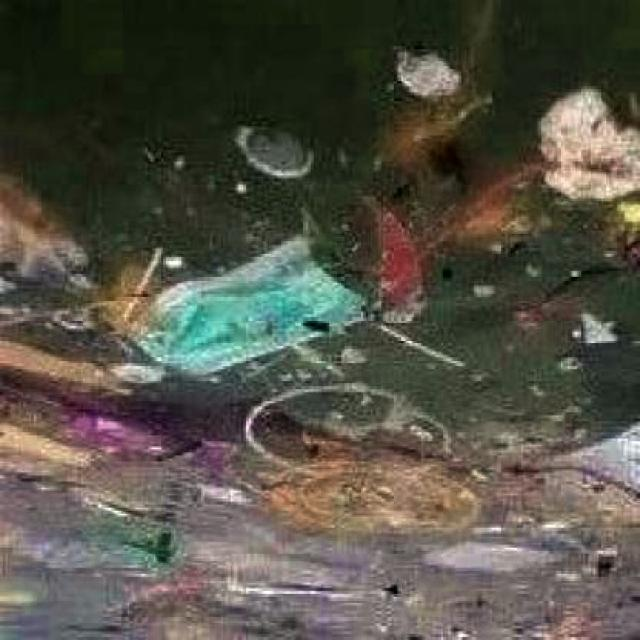Mask: (109, 228, 371, 386)
